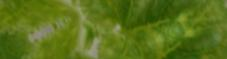Tomato leaf mosaic virus: (80, 0, 226, 59)
